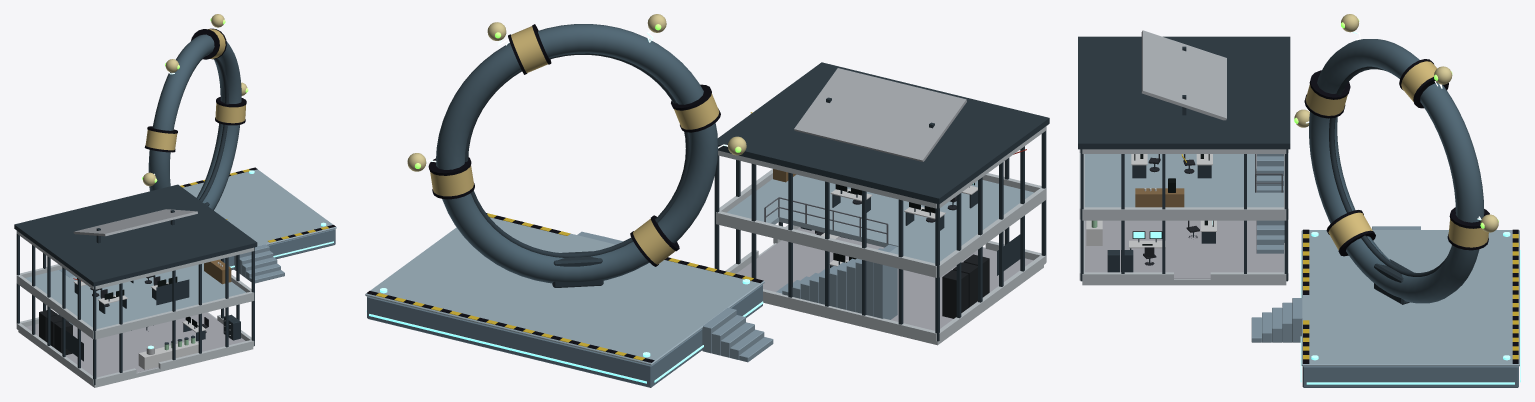
The model's file is tf-memelab-p4.glb.
3 renders of one model, left to right at view 1: azimuth 30°, elevation 25°; view 2: azimuth 150°, elevation 25°; view 3: azimuth 270°, elevation 25°, orthographic. The views are drawn at different scales.
Parts seen in each view (by area): view 1: tf-memelab-p4; view 2: tf-memelab-p4; view 3: tf-memelab-p4.
Part boxes in pixels (x1,y1,x2,y2): tf-memelab-p4: (14,14,336,387); tf-memelab-p4: (365,14,1049,387); tf-memelab-p4: (1078,14,1520,387).
Size of the model in its own units: 24.94 by 15.3 by 21.69.
